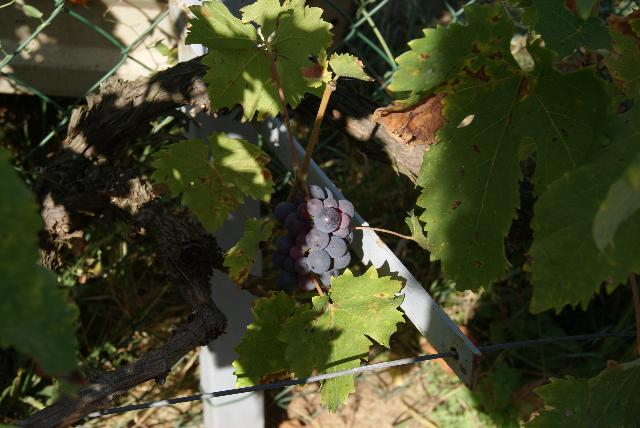grapes: (272, 185, 354, 294)
